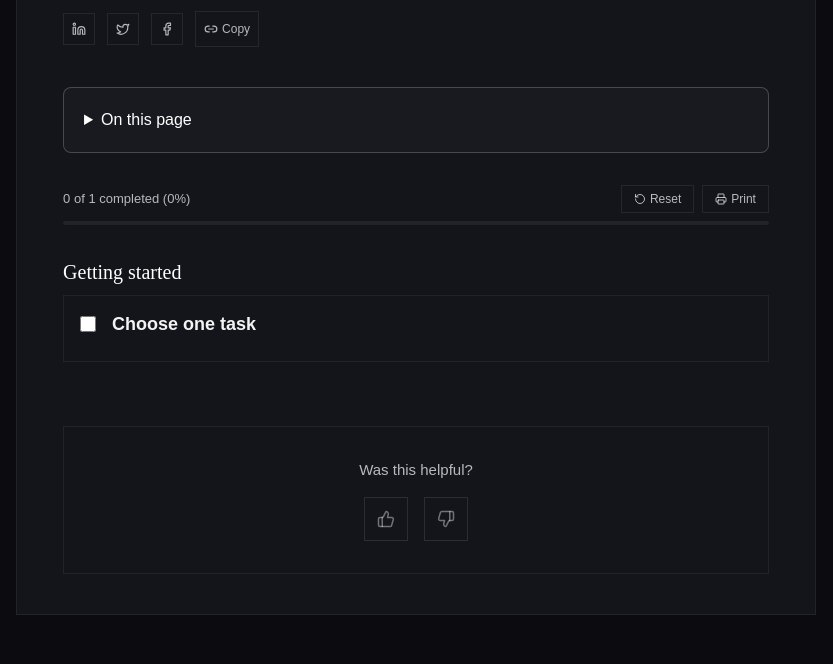
Test: resource interactions › does not thank the visitor for feedback that failed to save and permits retry
(page scrolled)
What coordinates should you click on to do the following:
click the button named "This resource was helpful"
I would click on:
 (386, 519)
Its box is [364,497,408,541].
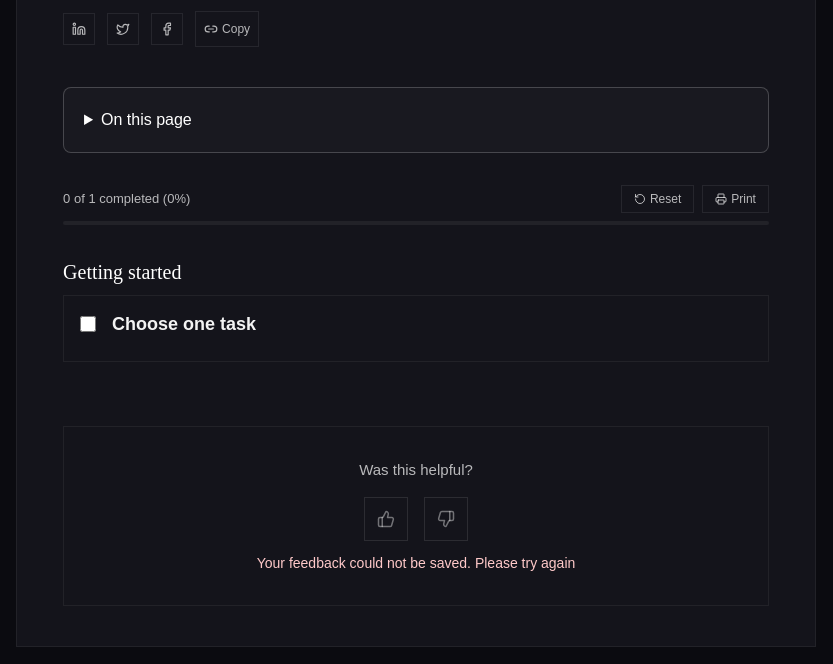
Check: the text "Thanks for your feedback!" is not shown
Check: the message "Your feedback could not be saved. Please try again" is shown, box [257,555,575,571]
What coordinates should you click on to do the following:
click the button named "This resource was helpful"
I would click on:
 (386, 519)
Its box is [364,497,408,541].
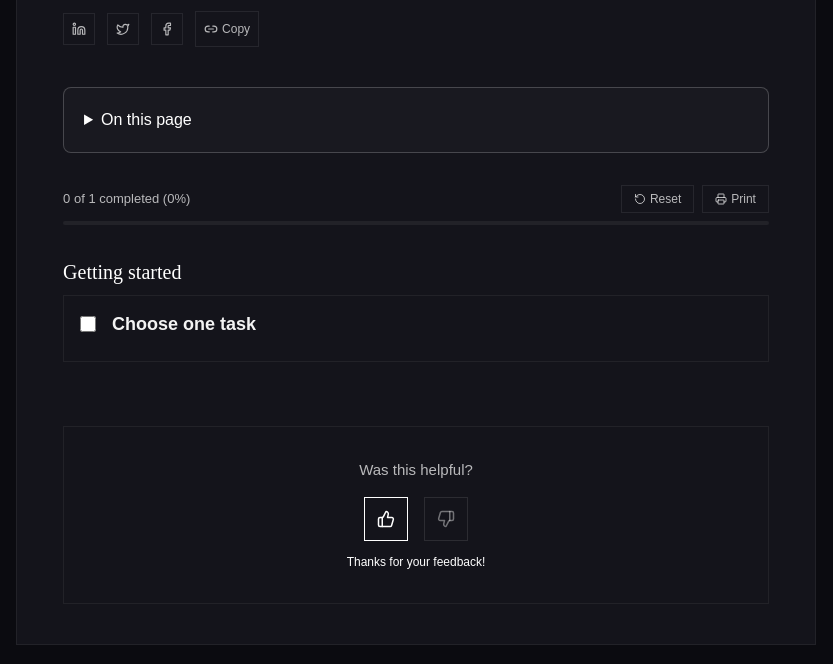
Check: the text "Thanks for your feedback!" is shown, box [347,555,485,569]
